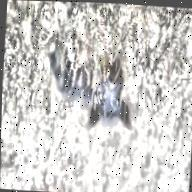boar: (33, 32, 139, 133)
